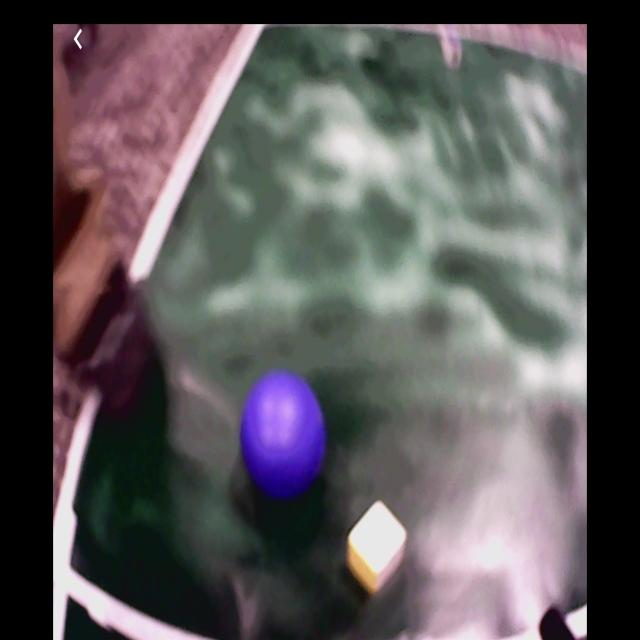ball: (242, 373, 325, 494)
